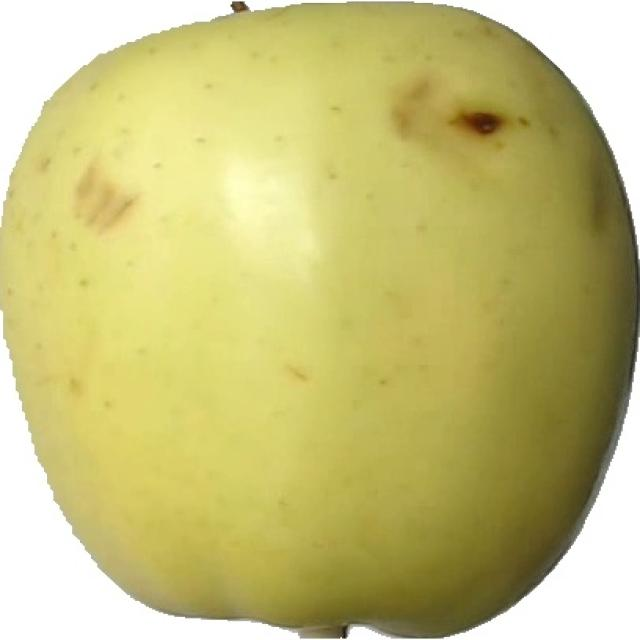Golden Elma: (4, 9, 640, 620)
